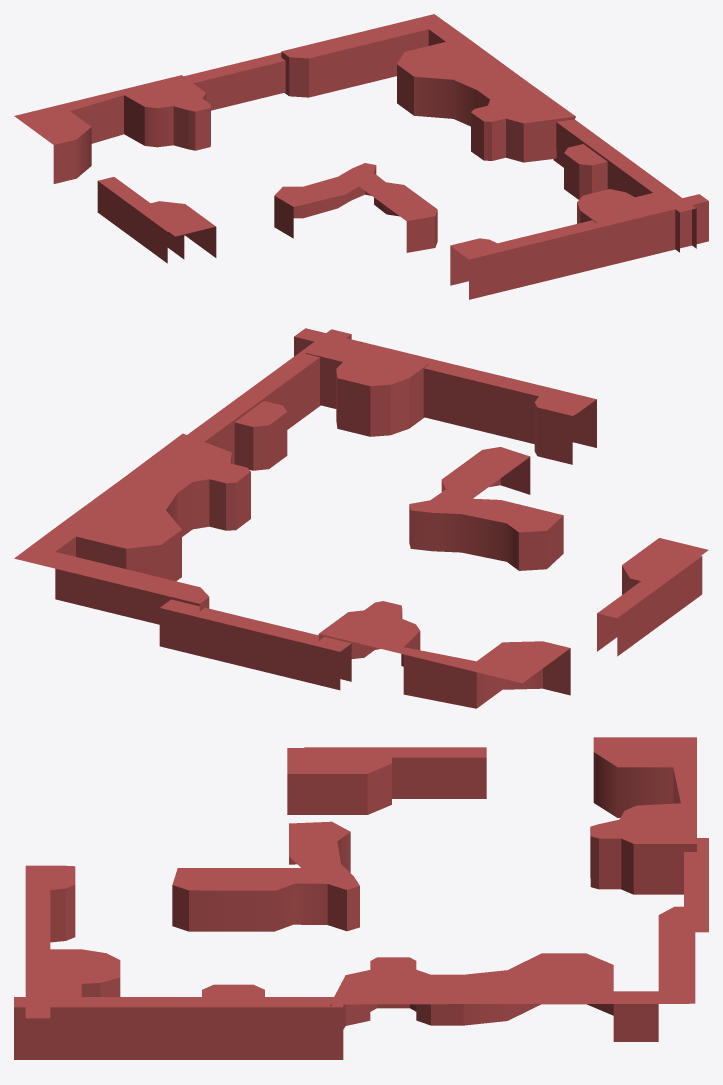
File: RightTop_Colliders.fbx
3 views of the same model, one above another, from view 1: azimuth 30°, elevation 25°; view 2: azimuth 150°, elevation 25°; view 3: azimuth 270°, elevation 25° (orthographic). The views are drawn at different scales.
Visible parts, largest first — view 1: RightTop; view 2: RightTop; view 3: RightTop.
Boxes of the visible parts, x1,y1,x2,y2 form: RightTop: (14, 14, 708, 299); RightTop: (14, 328, 708, 708); RightTop: (14, 737, 708, 1059).
Bounding box in the file's own units: 2077 × 199 × 2200.
